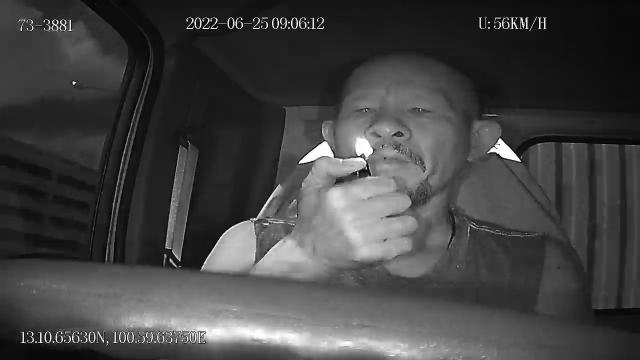SafeDriving: (400, 93, 444, 125)
Smoking: (360, 147, 386, 163)
